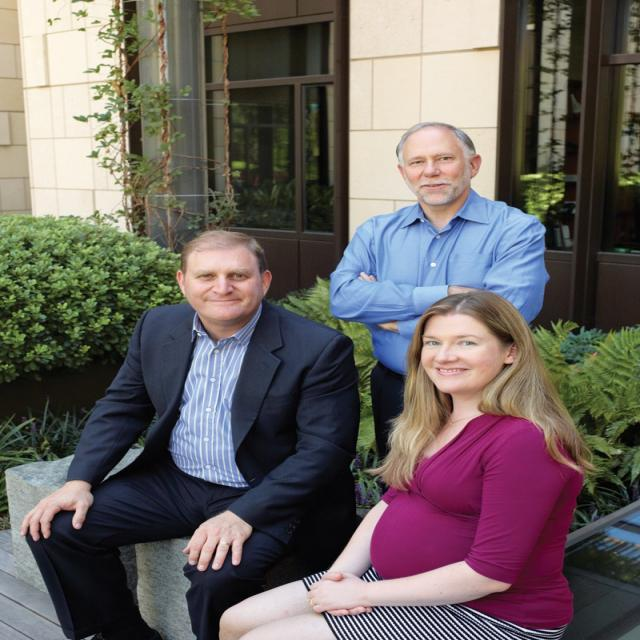body: (17, 227, 369, 640), (206, 286, 594, 640), (324, 121, 552, 499)
